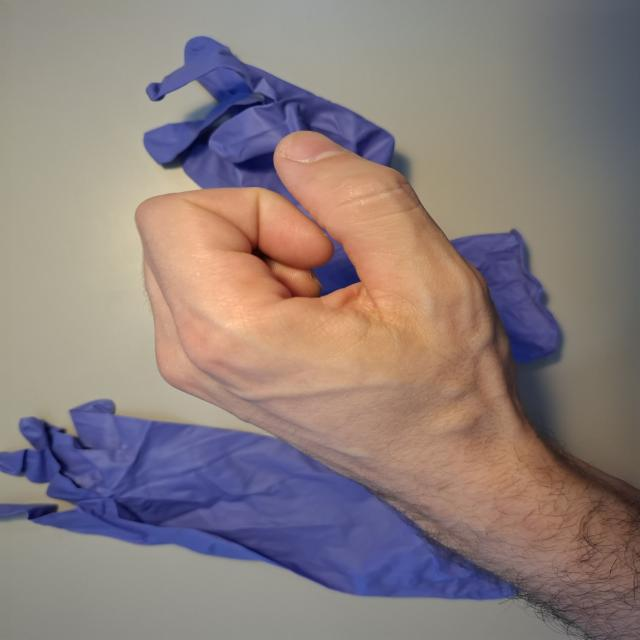glove_off: (130, 125, 556, 536)
